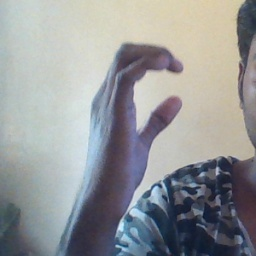C: (108, 32, 194, 159)
